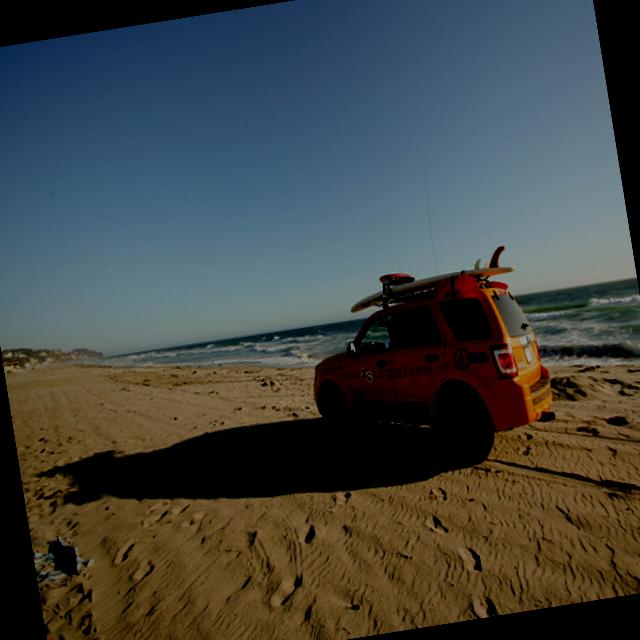Vehicle: (295, 240, 566, 490)
